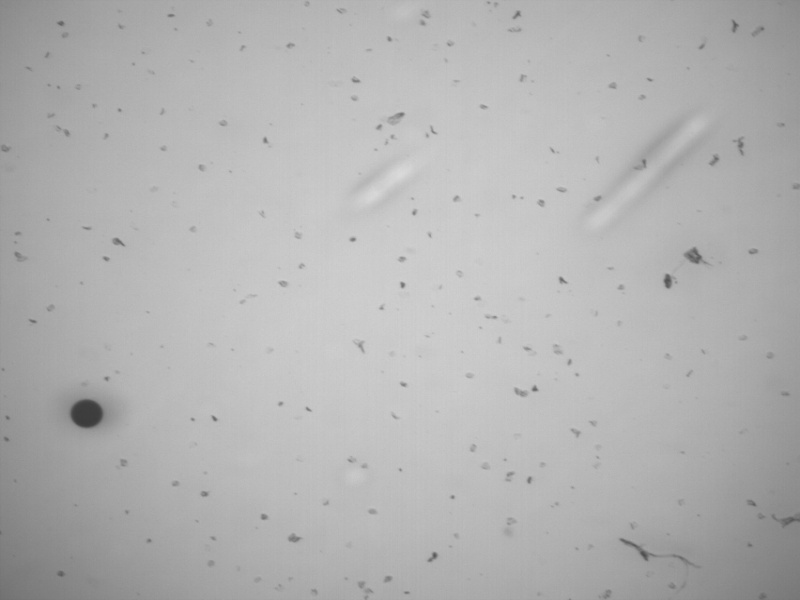bead: (69, 397, 105, 430)
fiber: (618, 537, 699, 590)
